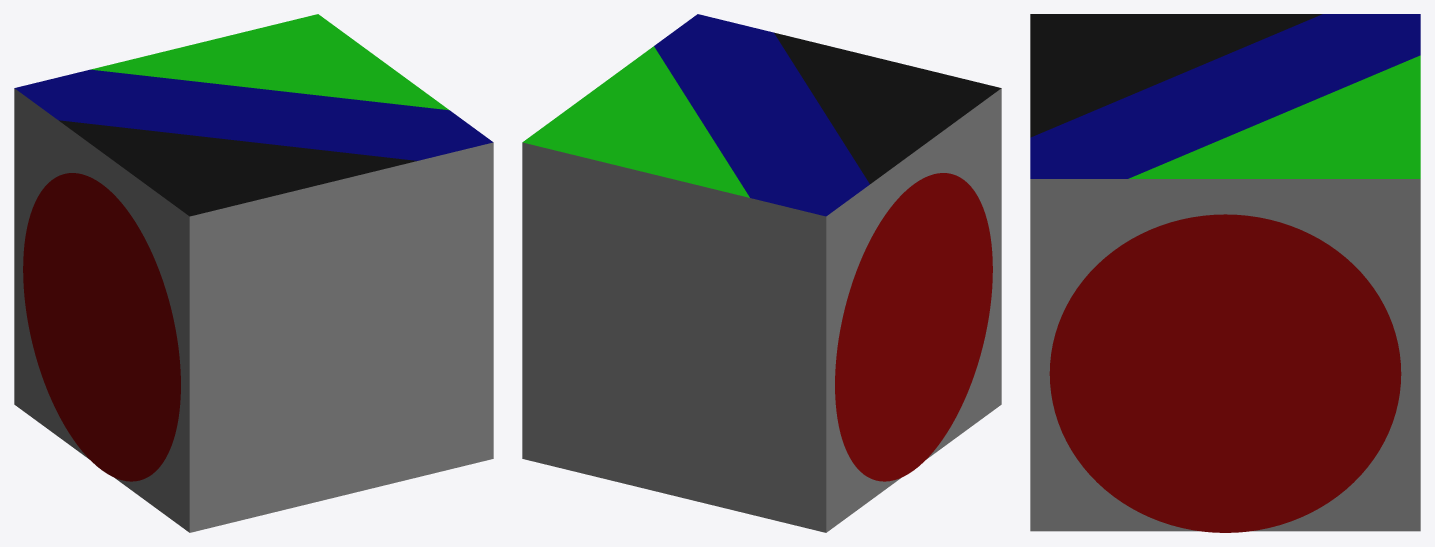
File: Blue3.FBX
The picture shows the model from 3 angles, left to right: view 1: azimuth 30°, elevation 25°; view 2: azimuth 150°, elevation 25°; view 3: azimuth 270°, elevation 25°; orthographic projection. The views are drawn at different scales.
Parts seen in each view (by area): view 1: Body, WheelR; view 2: Body, WheelR; view 3: Body, WheelL.
Part boxes in pixels (x1,y1,x2,y2): Body: (14, 14, 493, 532); WheelR: (23, 173, 180, 481); Body: (522, 14, 1001, 532); WheelR: (835, 173, 992, 481); Body: (1030, 14, 1420, 531); WheelL: (1049, 214, 1401, 532).
Size of the model in its own units: 7.87 by 7.87 by 7.87.
